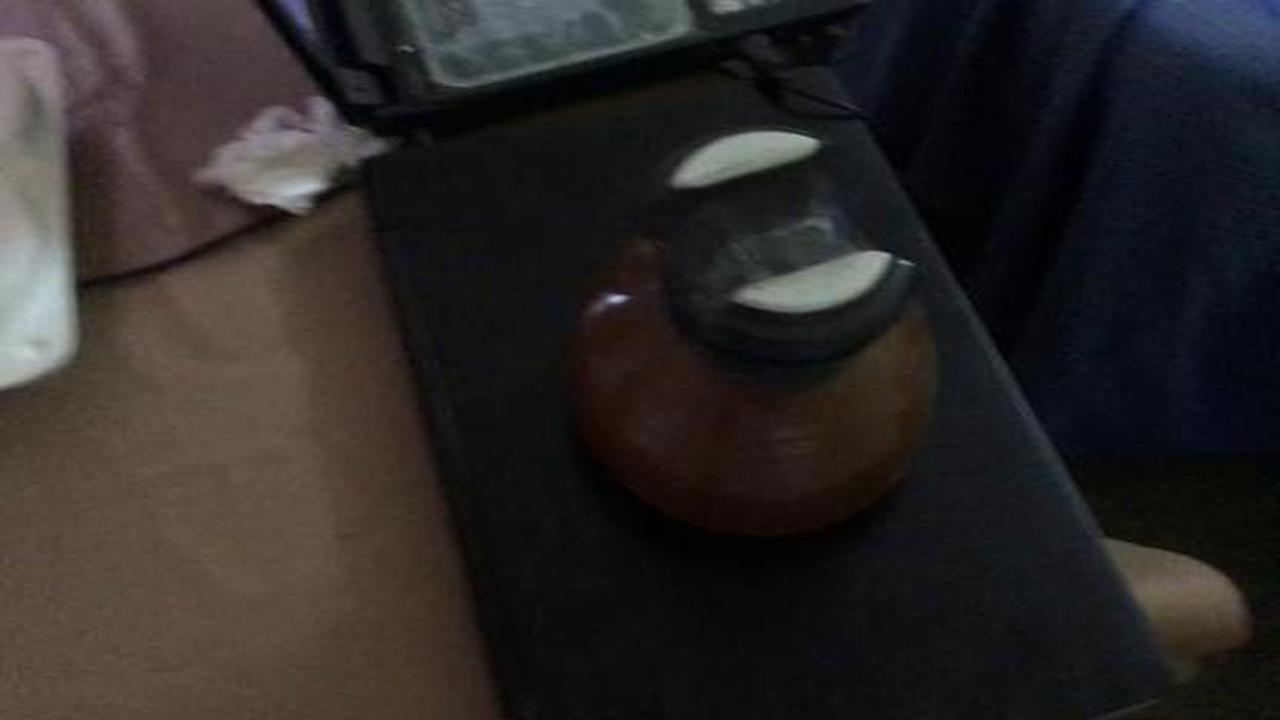insulator_pin: (521, 122, 1001, 556)
